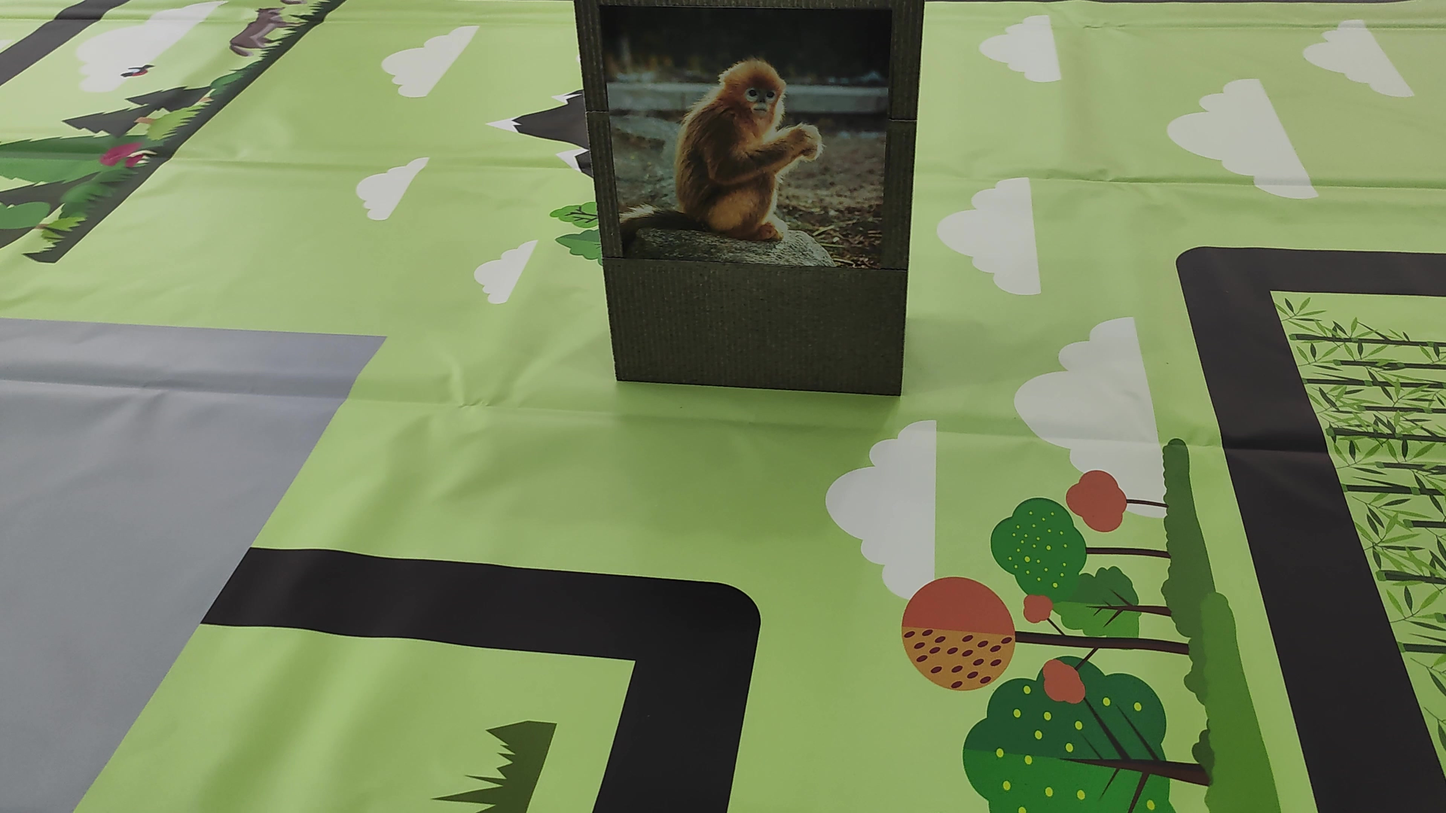monkey: (622, 24, 874, 247)
